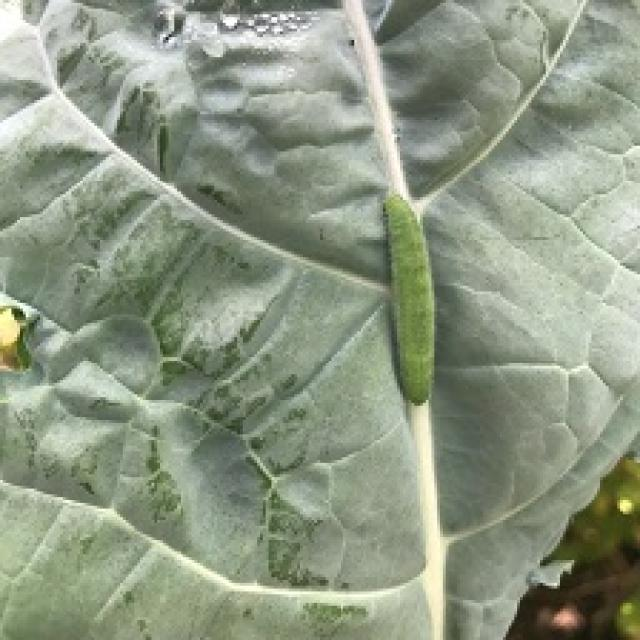Cabbage-worm: (370, 181, 454, 410)
